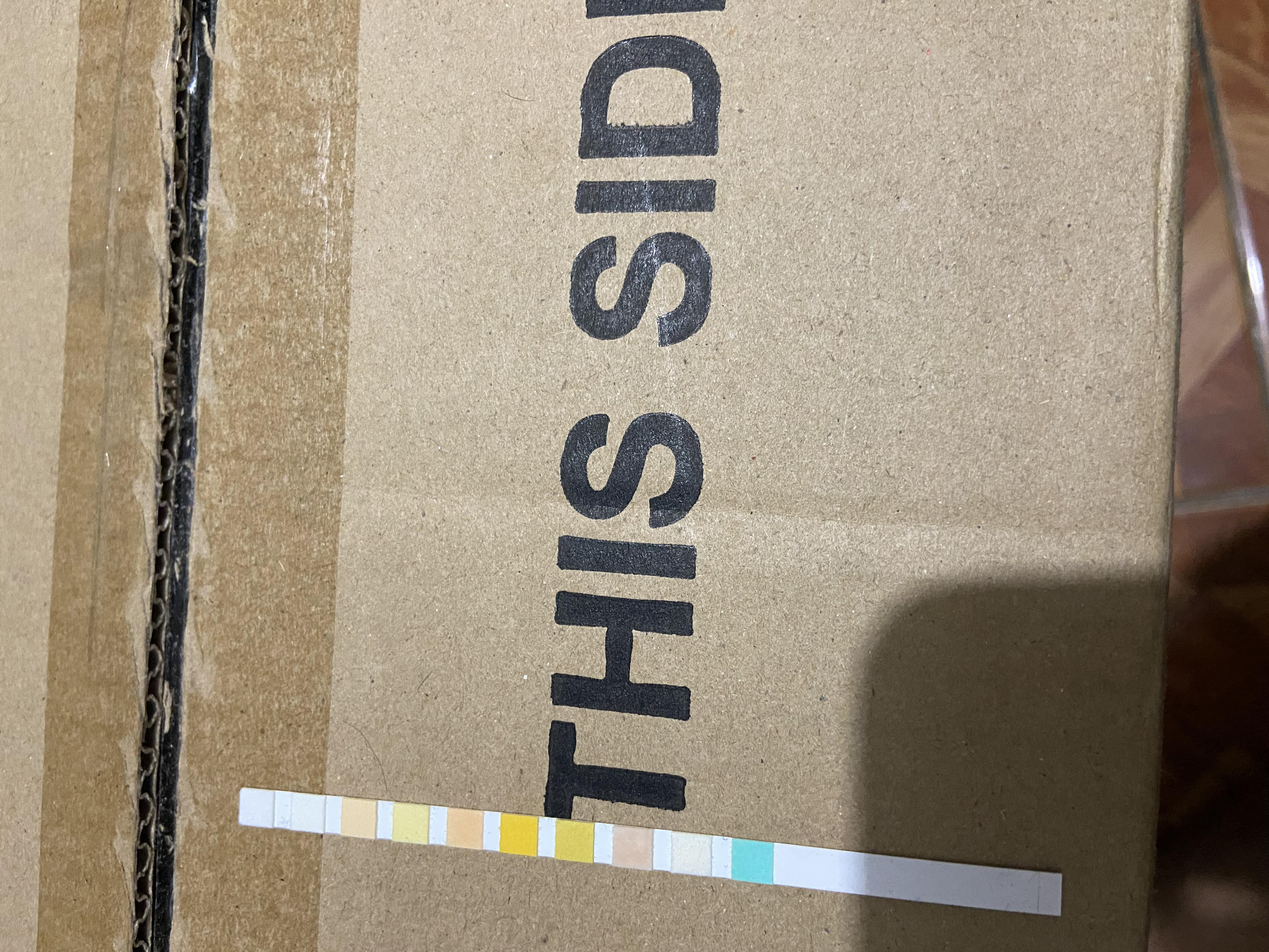Bilirubin: (673, 835, 711, 874)
Blood: (501, 817, 537, 852)
Glucose: (732, 844, 773, 881)
Ketone: (614, 828, 651, 866)
Leukocytes: (242, 790, 274, 826)
Nitrite: (293, 795, 324, 831)
Protein: (394, 805, 427, 841)
SpGravity: (557, 823, 594, 860)
Urobilinogen: (343, 801, 375, 836)
pH: (448, 810, 482, 847)
strip: (238, 787, 1063, 917)
